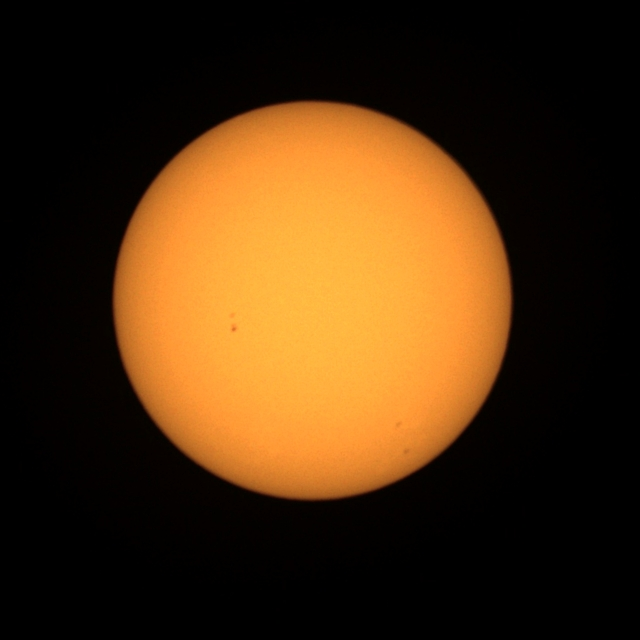sunspot: (228, 312, 239, 334), (394, 419, 404, 430), (402, 447, 412, 457)
